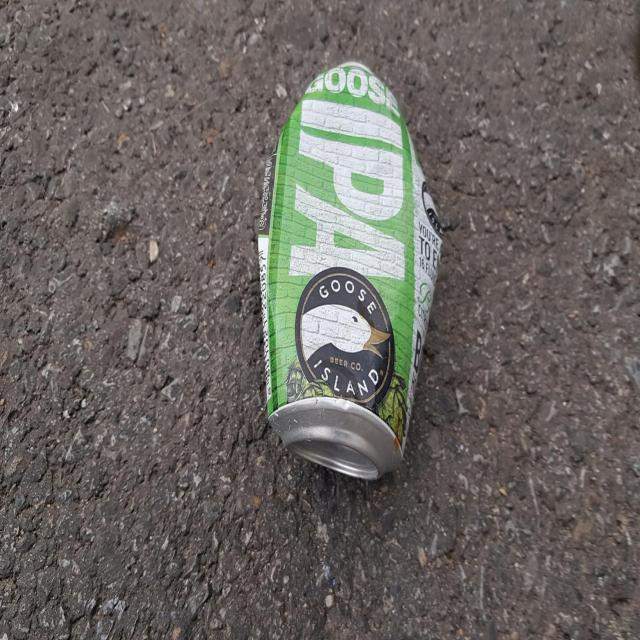can: (258, 60, 443, 479)
